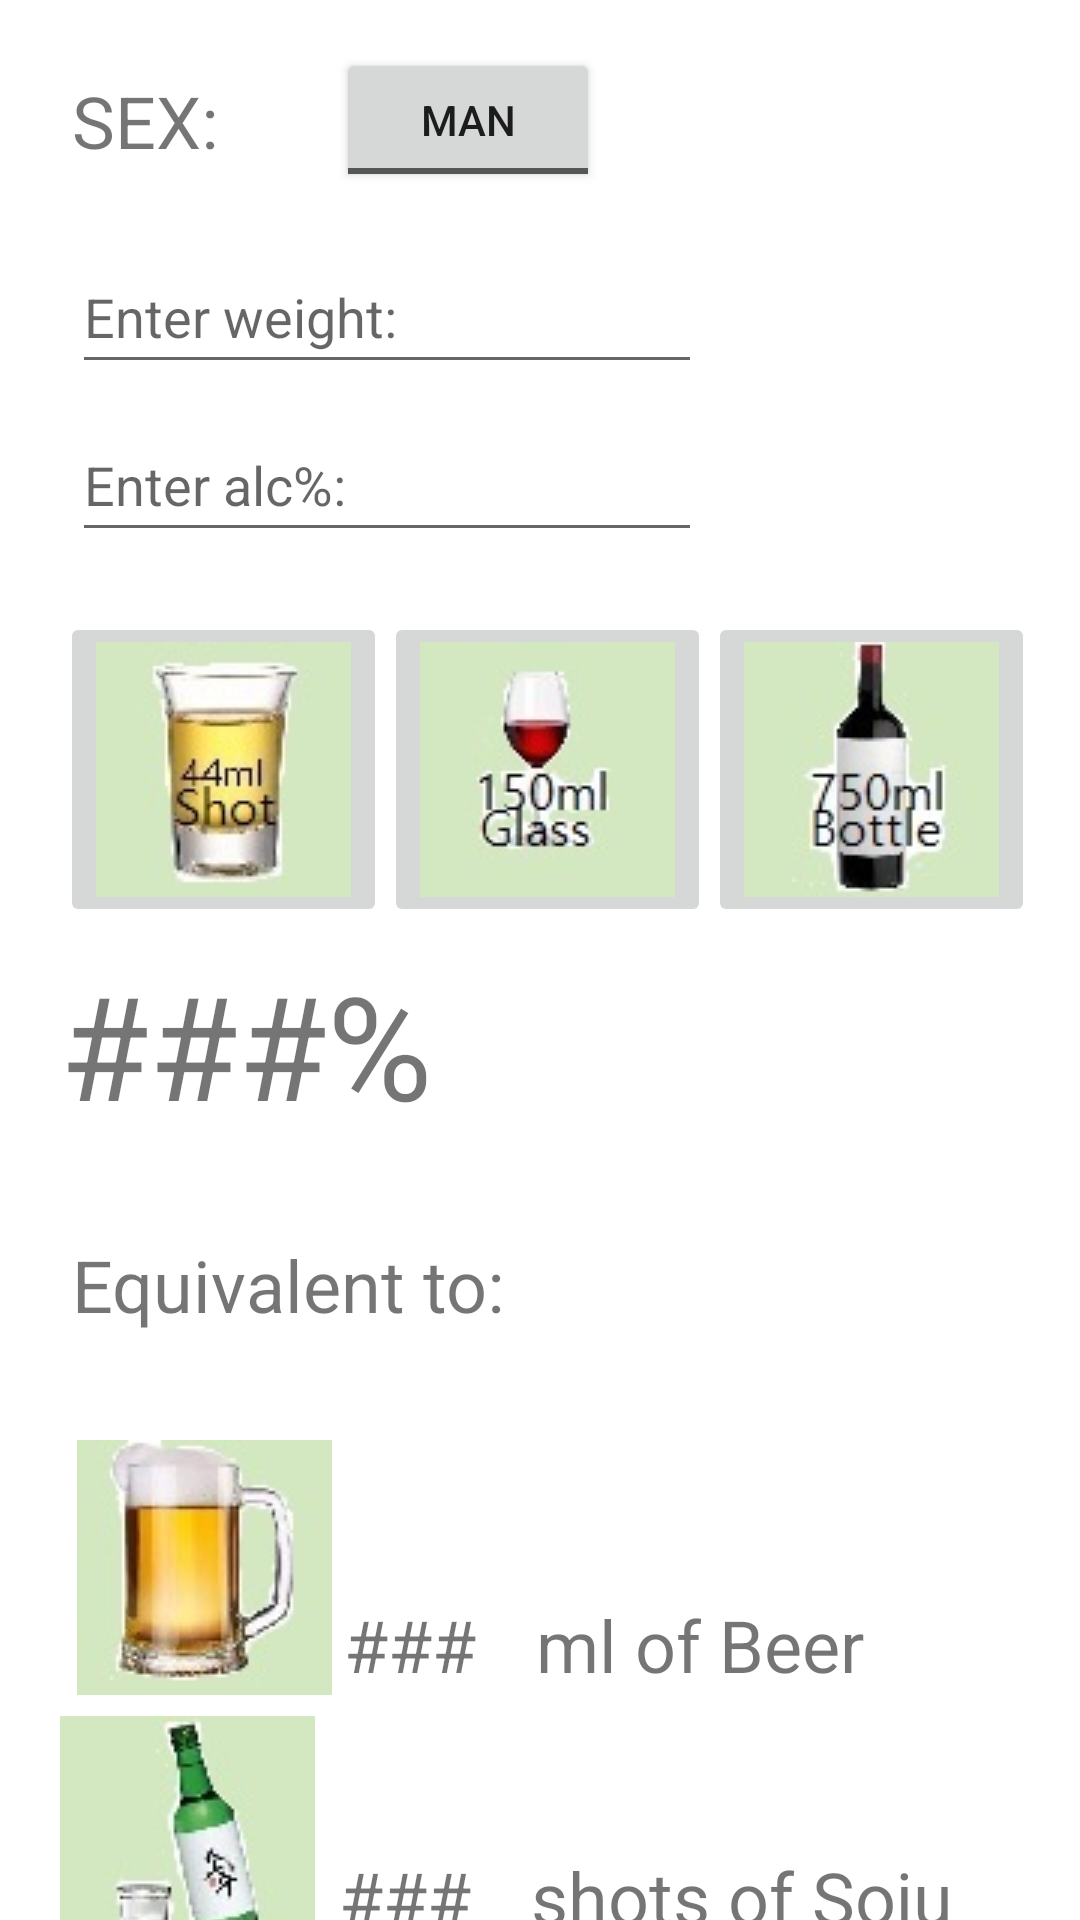

Icon click points for this 1080 × 1920 phone screenshot, format (x=x, y=y):
beer: (x=204, y=1567)
